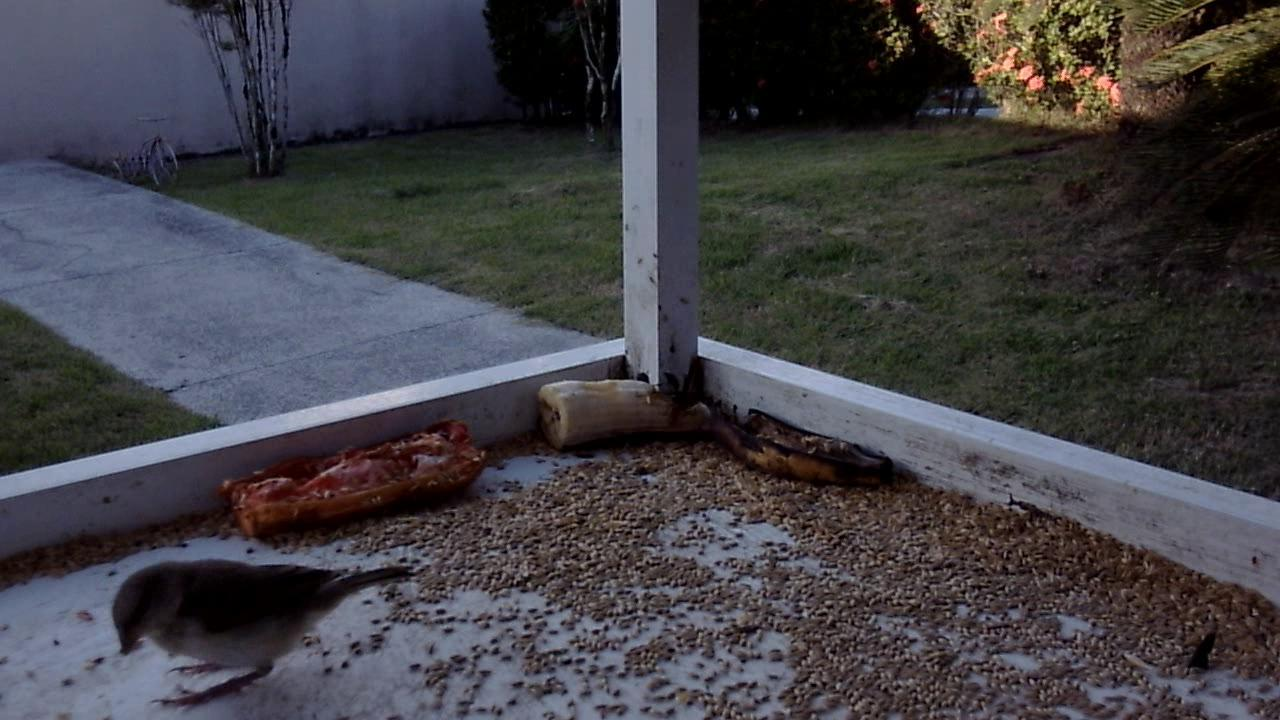canario_do_amazonas: (104, 545, 430, 712)
